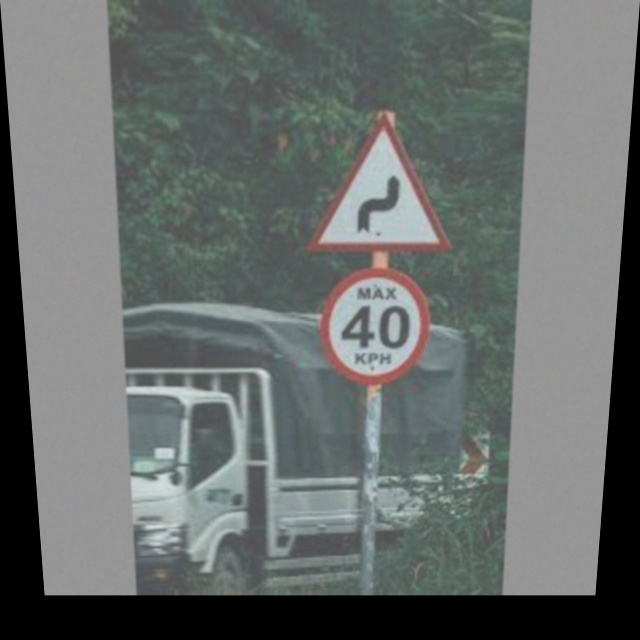Speed_Limit_40: (319, 265, 433, 382)
